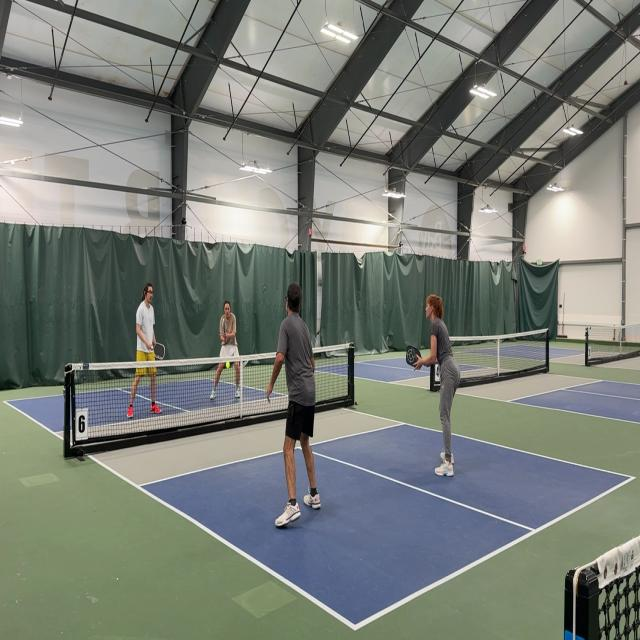ball: (226, 361, 230, 369)
